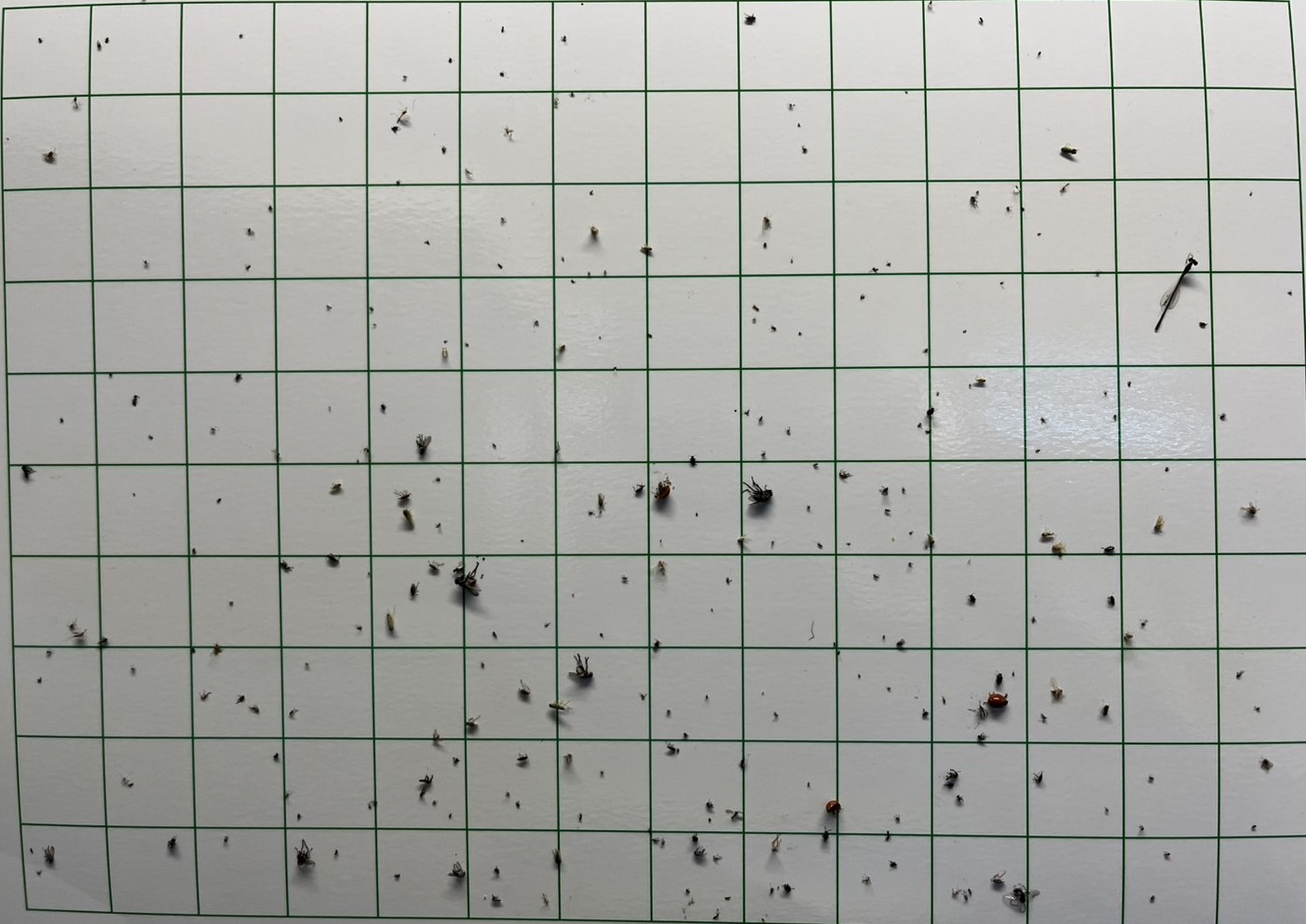fly: (569, 652, 599, 688), (453, 559, 482, 596), (1005, 881, 1039, 909), (742, 475, 772, 505), (294, 838, 315, 866), (652, 476, 672, 501), (416, 433, 432, 454)
test: (1149, 253, 1198, 333), (968, 700, 989, 725), (66, 617, 88, 639), (986, 690, 1009, 708), (447, 859, 466, 879), (549, 696, 572, 712), (419, 773, 434, 797), (1049, 676, 1064, 699), (943, 767, 960, 786), (1240, 500, 1260, 516), (393, 487, 412, 503), (951, 886, 971, 901), (386, 606, 397, 631), (42, 844, 56, 863), (466, 712, 482, 728), (825, 799, 841, 814), (518, 678, 532, 695), (21, 464, 36, 479), (991, 869, 1006, 884), (396, 108, 410, 124), (1003, 893, 1019, 907), (1153, 514, 1165, 532), (402, 508, 414, 526), (770, 833, 782, 851), (725, 808, 743, 820), (1051, 540, 1066, 554), (427, 559, 444, 571), (1060, 144, 1077, 156), (665, 740, 679, 754), (693, 844, 708, 857), (552, 847, 562, 866), (326, 552, 340, 565), (280, 559, 294, 572), (1040, 529, 1055, 541), (1260, 756, 1273, 769), (656, 560, 667, 575), (503, 125, 514, 140), (409, 582, 420, 597), (597, 492, 606, 510), (924, 533, 934, 549), (971, 376, 987, 386), (43, 150, 56, 162), (516, 751, 529, 763), (329, 481, 343, 492), (1032, 769, 1043, 783), (432, 728, 442, 743), (122, 774, 134, 786), (744, 12, 756, 24), (640, 245, 653, 256), (633, 482, 644, 495), (762, 215, 772, 229), (167, 835, 177, 849), (212, 642, 223, 654), (750, 302, 762, 313), (839, 469, 852, 479), (1101, 544, 1115, 553), (541, 892, 550, 906), (970, 193, 979, 207), (491, 894, 502, 905), (781, 883, 792, 894), (446, 812, 457, 823), (557, 344, 567, 356), (737, 535, 749, 545), (563, 752, 573, 764), (822, 826, 830, 841), (199, 690, 211, 700), (590, 225, 599, 238), (996, 672, 1004, 686), (1124, 631, 1134, 642), (98, 636, 109, 646), (249, 703, 260, 713), (541, 620, 552, 630), (465, 167, 474, 179), (1101, 703, 1110, 715), (705, 799, 714, 811), (271, 448, 280, 460), (1059, 183, 1069, 193), (288, 708, 298, 718), (879, 485, 889, 495), (284, 789, 293, 800), (1093, 270, 1104, 279), (72, 96, 79, 110), (131, 394, 139, 406), (689, 454, 697, 466), (555, 441, 561, 457), (712, 908, 720, 920), (1102, 389, 1110, 401), (1107, 595, 1116, 605), (926, 407, 935, 417), (977, 732, 987, 741), (967, 593, 976, 603), (690, 833, 699, 843), (712, 853, 722, 862), (492, 865, 500, 876), (442, 347, 449, 359), (927, 0, 934, 12), (1139, 618, 1148, 627), (1236, 669, 1245, 678), (236, 694, 245, 703), (896, 638, 905, 647), (391, 125, 400, 134), (681, 731, 690, 740), (961, 327, 970, 336), (495, 262, 504, 271), (130, 493, 139, 502), (653, 639, 661, 649), (956, 793, 964, 803), (368, 799, 376, 809), (687, 896, 695, 906), (739, 757, 746, 768), (884, 830, 891, 841), (246, 227, 254, 236), (234, 373, 242, 382), (862, 875, 870, 884), (756, 416, 765, 424), (324, 404, 333, 412), (1138, 824, 1145, 834), (922, 708, 929, 718), (659, 837, 666, 847), (812, 462, 822, 469), (1004, 204, 1011, 214), (96, 40, 102, 51), (451, 756, 459, 764), (519, 537, 527, 545), (1011, 670, 1019, 678), (750, 317, 758, 325), (1040, 713, 1047, 722), (889, 860, 898, 867), (505, 790, 512, 799), (941, 698, 948, 707), (908, 527, 915, 536), (816, 541, 823, 550), (569, 279, 578, 286), (395, 178, 402, 187), (554, 96, 559, 108), (769, 884, 774, 896), (621, 575, 628, 583), (1219, 412, 1226, 420), (1163, 851, 1171, 858), (743, 408, 750, 416), (598, 631, 605, 639), (491, 443, 498, 451), (806, 780, 813, 788), (833, 641, 840, 649), (906, 561, 913, 569), (998, 280, 1005, 288), (646, 333, 654, 340), (611, 365, 618, 373), (107, 371, 114, 379), (130, 665, 136, 674), (143, 259, 149, 268), (380, 403, 386, 412), (273, 752, 279, 761), (802, 145, 808, 154), (785, 426, 791, 435), (682, 889, 691, 895), (895, 815, 901, 824), (434, 522, 441, 529), (394, 873, 401, 880), (788, 103, 795, 110), (873, 573, 880, 580), (884, 508, 891, 515), (886, 687, 893, 694), (1034, 448, 1041, 455), (916, 421, 923, 428), (966, 382, 973, 389), (884, 261, 891, 268), (570, 92, 577, 99), (210, 426, 216, 434), (304, 662, 310, 670), (561, 35, 567, 43), (640, 692, 646, 700), (773, 711, 779, 719), (1148, 775, 1154, 783), (871, 267, 879, 273), (1198, 322, 1206, 328), (570, 593, 578, 599), (694, 513, 702, 519), (834, 651, 842, 657), (761, 451, 767, 459), (922, 348, 930, 354), (1035, 231, 1043, 237), (770, 327, 778, 333), (787, 259, 795, 265), (586, 270, 592, 278), (223, 835, 228, 844), (326, 304, 332, 311), (46, 649, 52, 656), (1041, 417, 1047, 424), (492, 631, 498, 638), (1252, 824, 1258, 831), (1254, 705, 1261, 711), (1149, 895, 1155, 902), (1013, 186, 1019, 193), (724, 895, 731, 901), (367, 571, 373, 578), (588, 511, 595, 517), (707, 818, 713, 825), (881, 635, 888, 641), (795, 331, 802, 337), (761, 241, 768, 247), (560, 256, 566, 263), (464, 342, 471, 348), (589, 189, 595, 196), (441, 146, 446, 154), (501, 216, 506, 224), (334, 849, 339, 857), (515, 800, 520, 808), (296, 813, 301, 821), (1037, 50, 1042, 58), (978, 17, 983, 25), (925, 431, 933, 436), (1020, 205, 1025, 213), (603, 268, 608, 276), (442, 339, 450, 344), (245, 264, 251, 270), (356, 625, 362, 631), (578, 812, 582, 821), (432, 799, 438, 805), (1105, 806, 1109, 815), (434, 476, 440, 482), (859, 294, 865, 300), (768, 541, 774, 547), (1127, 380, 1133, 386), (363, 447, 369, 453), (481, 661, 486, 668), (268, 205, 273, 212), (534, 319, 539, 326), (38, 676, 43, 683), (599, 769, 604, 776), (192, 547, 197, 554), (1031, 616, 1036, 623), (726, 578, 731, 585), (704, 694, 709, 701), (666, 710, 671, 717), (856, 675, 863, 680), (901, 487, 906, 494), (1112, 414, 1117, 421), (934, 391, 941, 396), (795, 123, 802, 128), (354, 458, 359, 465), (229, 600, 234, 606), (402, 75, 407, 81), (500, 71, 505, 77), (216, 497, 221, 503), (148, 434, 153, 440), (339, 116, 344, 122), (59, 417, 64, 423), (448, 58, 453, 64), (424, 240, 430, 245), (104, 37, 109, 43), (1164, 466, 1169, 472), (238, 33, 243, 39), (37, 869, 42, 875), (38, 38, 43, 44), (846, 541, 851, 547), (501, 26, 505, 33), (709, 606, 713, 613), (370, 305, 374, 312), (1287, 290, 1292, 295), (806, 505, 811, 510), (30, 848, 34, 854), (1249, 191, 1252, 196), (903, 91, 908, 94)
